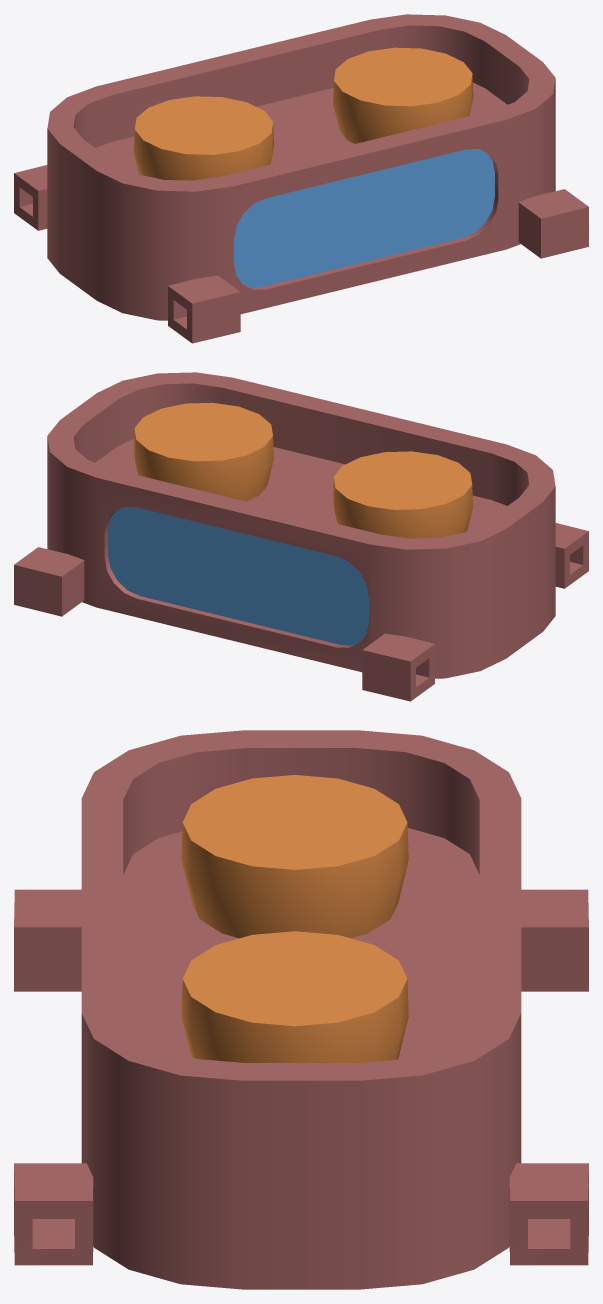
3 renders of one model, top to bottom at view 1: azimuth 30°, elevation 25°; view 2: azimuth 150°, elevation 25°; view 3: azimuth 270°, elevation 25°, orthographic. The views are drawn at different scales.
Parts seen in each view (by area): view 1: 2; view 2: 2; view 3: 2.
Boxes of the visible parts, x1,y1,x2,y2 form: 2: (14,14,588,343); 2: (14,372,588,701); 2: (14,730,588,1289).
Bounding box in the file's own units: 13.95 × 3.97 × 9.68.
